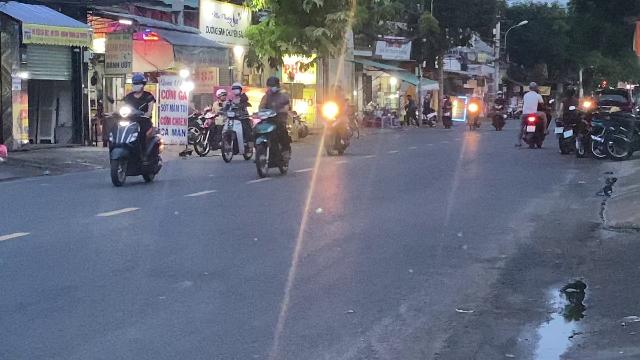helmet: (130, 72, 146, 92), (264, 76, 280, 94)
motorcyclist: (104, 71, 166, 187), (252, 76, 294, 178)
